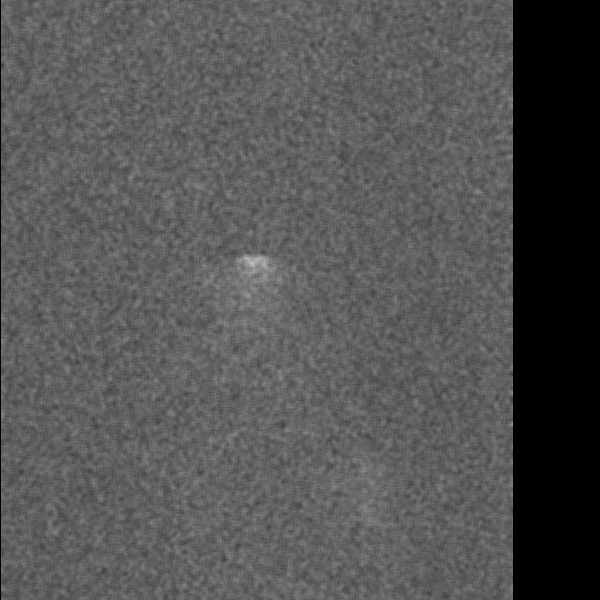spark: (230, 248, 274, 315), (327, 453, 343, 481)
